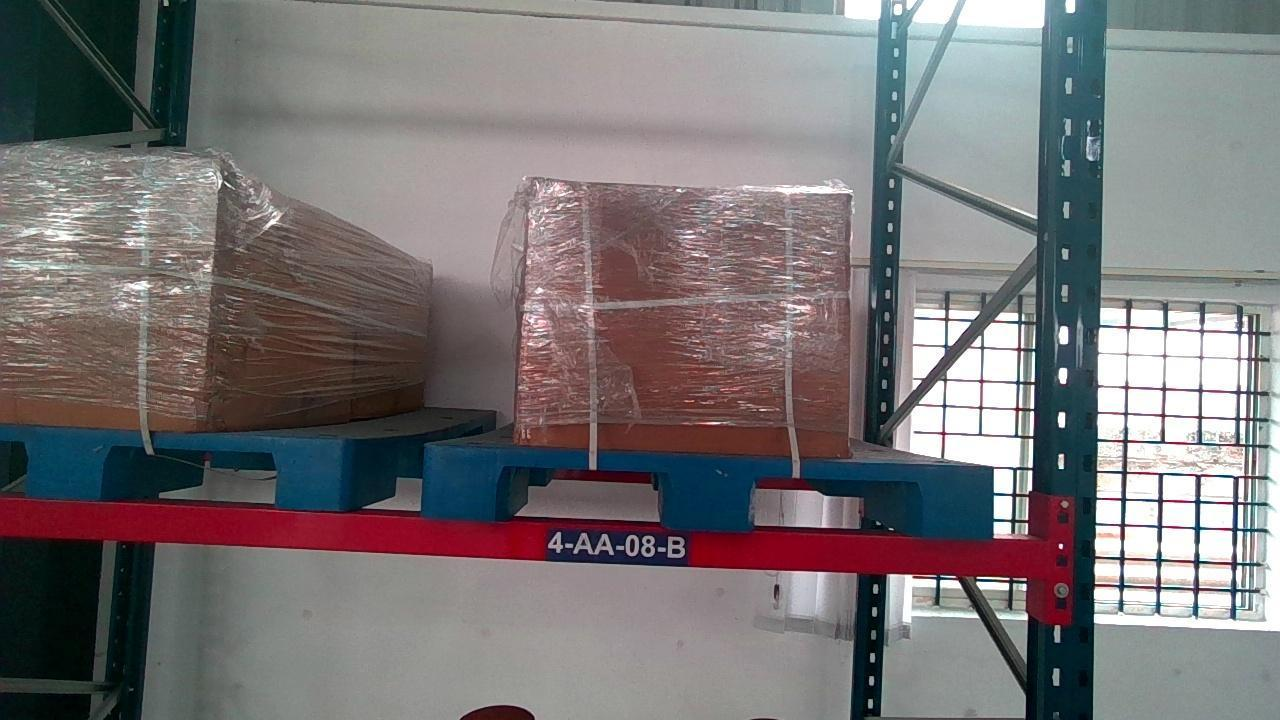h_rack: (3, 500, 1040, 577)
small_pallet: (417, 447, 993, 534), (4, 428, 343, 506)
